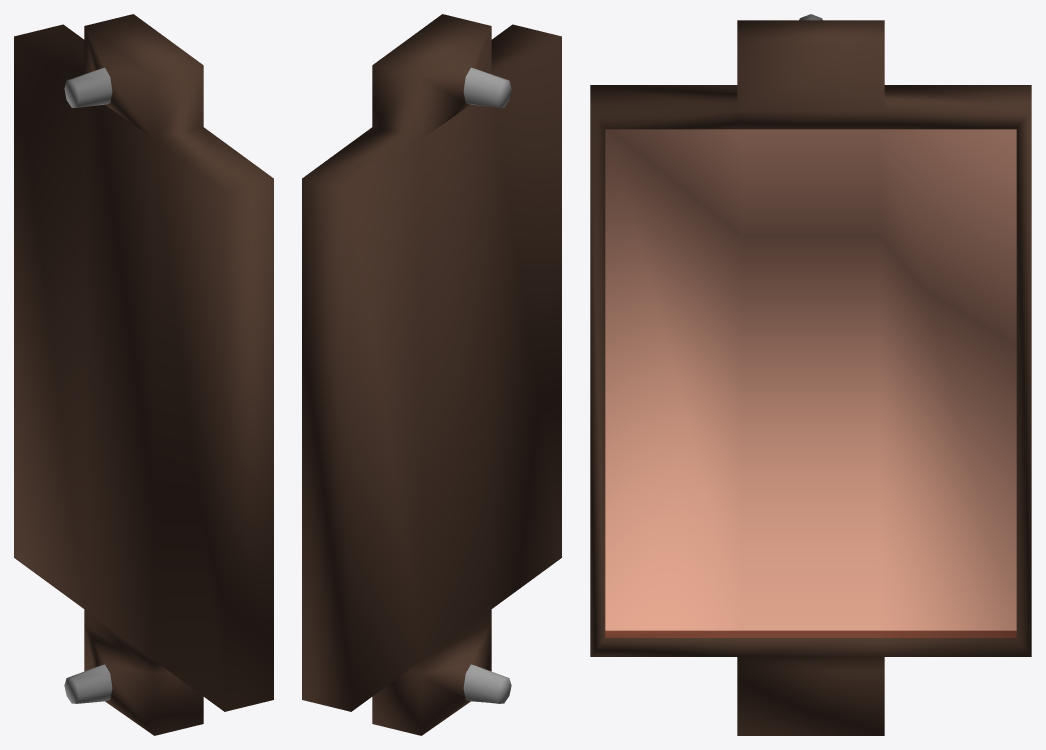
File: PictureFrame.fbx
The picture shows the model from 3 angles, left to right: view 1: azimuth 30°, elevation 25°; view 2: azimuth 150°, elevation 25°; view 3: azimuth 270°, elevation 25°; orthographic projection. The views are drawn at different scales.
Visible parts, largest first — view 1: Cube; view 2: Cube; view 3: Cube.
Boxes of the visible parts, x1=… form: Cube: x1=14, y1=14, x2=273, y2=735; Cube: x1=302, y1=14, x2=561, y2=735; Cube: x1=590, y1=14, x2=1031, y2=735.
Size of the model in its own units: 88.15 by 573 by 332.
